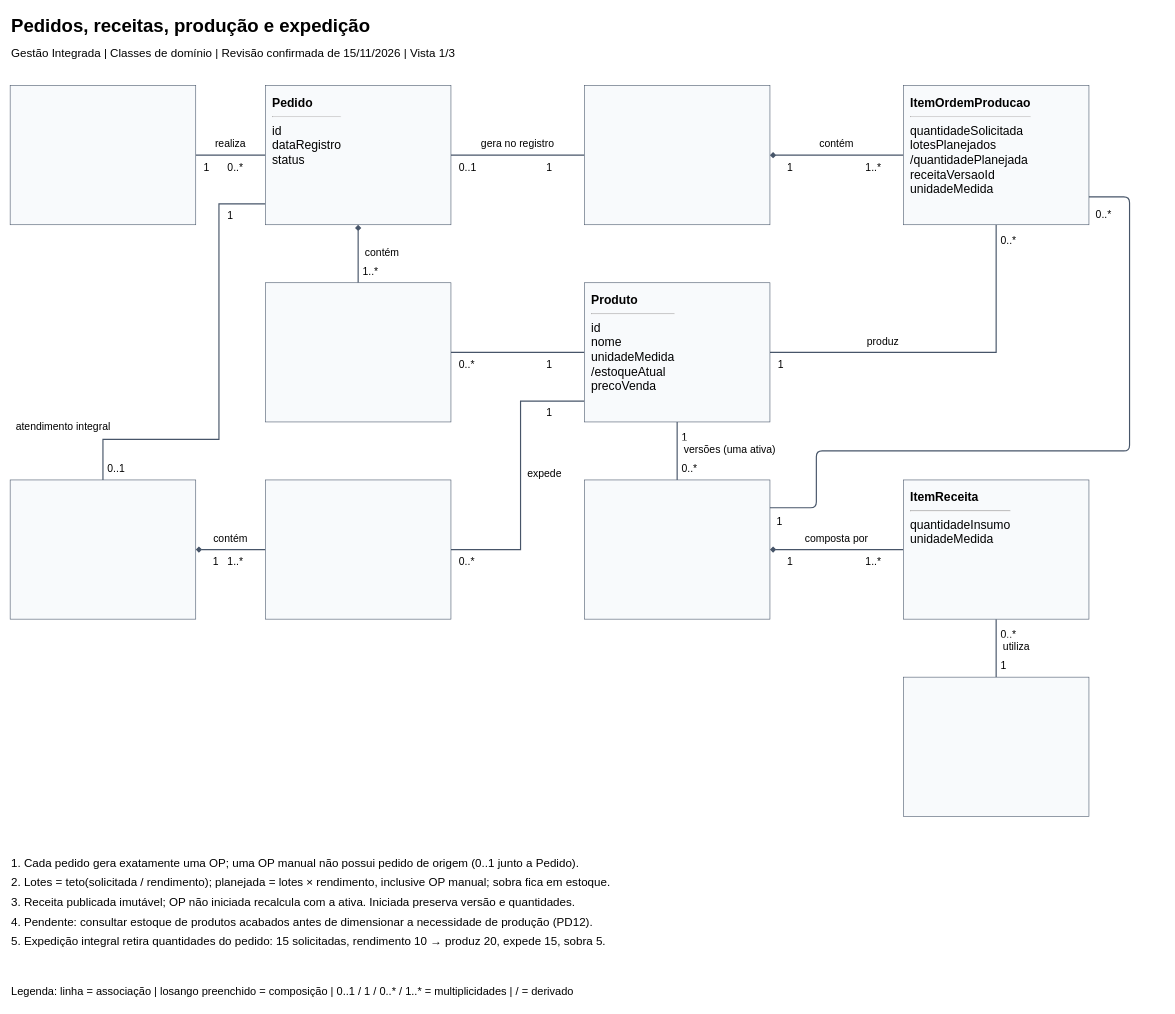
The diagram is 1175 pixels wide and 1014 high, and some of its shapes have lost their labels. The shapes that lost their labels are listed below. From the top down, each one's centre as x and y in pixels, then its label:
At point (103, 155): "Cliente id nome documento contato".
At point (677, 155): "OrdemProducao id dataCriacao tipo status dataInicio dataConclusao".
At point (358, 352): "ItemPedido quantidade precoUnitarioVenda".
At point (520, 340): "referencia".
At point (891, 439): "versão utilizada".
At point (103, 549): "Expedicao id dataExpedicao destinatario status".
At point (358, 549): "ItemExpedicao quantidade unidadeMedida".
At point (677, 549): "Receita (versão) id versao ativa rendimento unidadeRendimento".
At point (996, 746): "Insumo id nome unidadeMedida /estoqueAtual".
